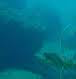smallfish: (36, 48, 76, 75)
